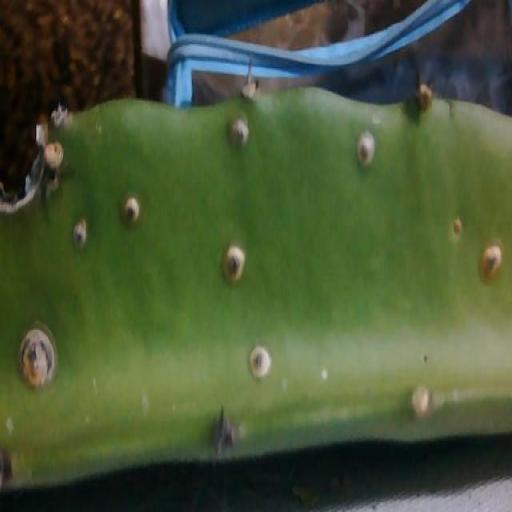stemcanker: (338, 379, 370, 444), (206, 356, 240, 411), (252, 127, 278, 181), (57, 199, 81, 243), (449, 343, 466, 378), (140, 58, 162, 84), (327, 152, 344, 177)
